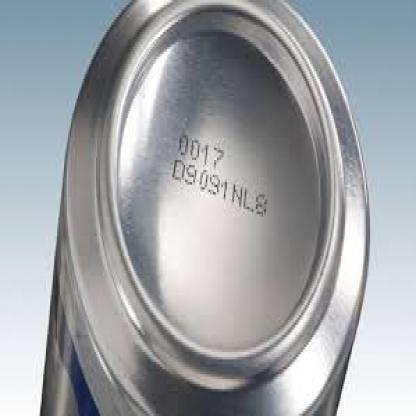METAL: (39, 0, 369, 414)
